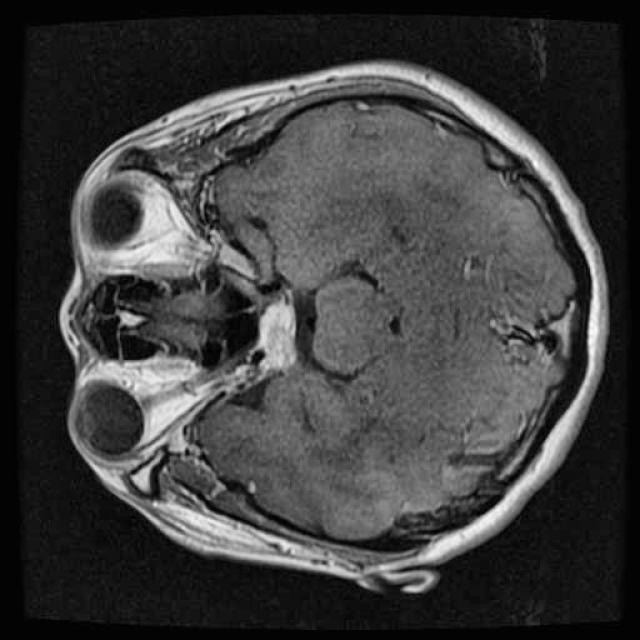Tumor: (253, 296, 306, 378)
